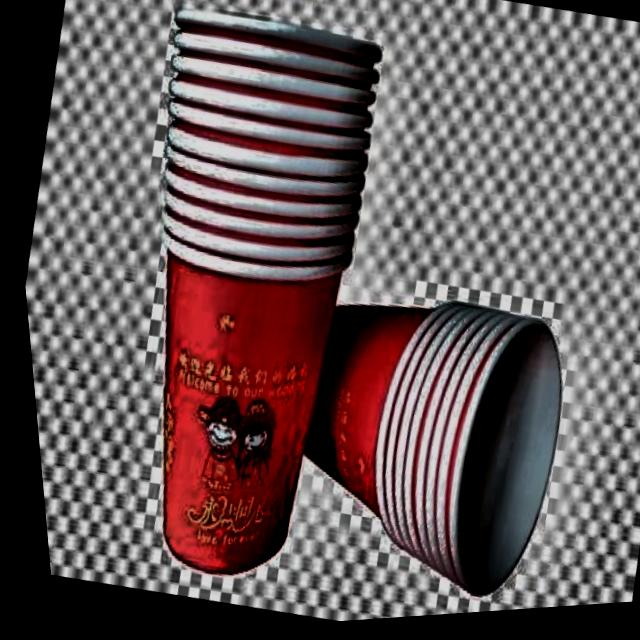Cup: (39, 0, 425, 617), (220, 249, 600, 629)
